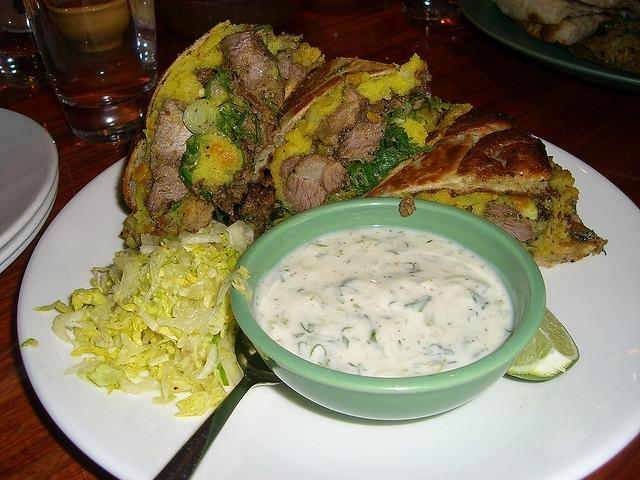lime: (506, 306, 578, 381)
